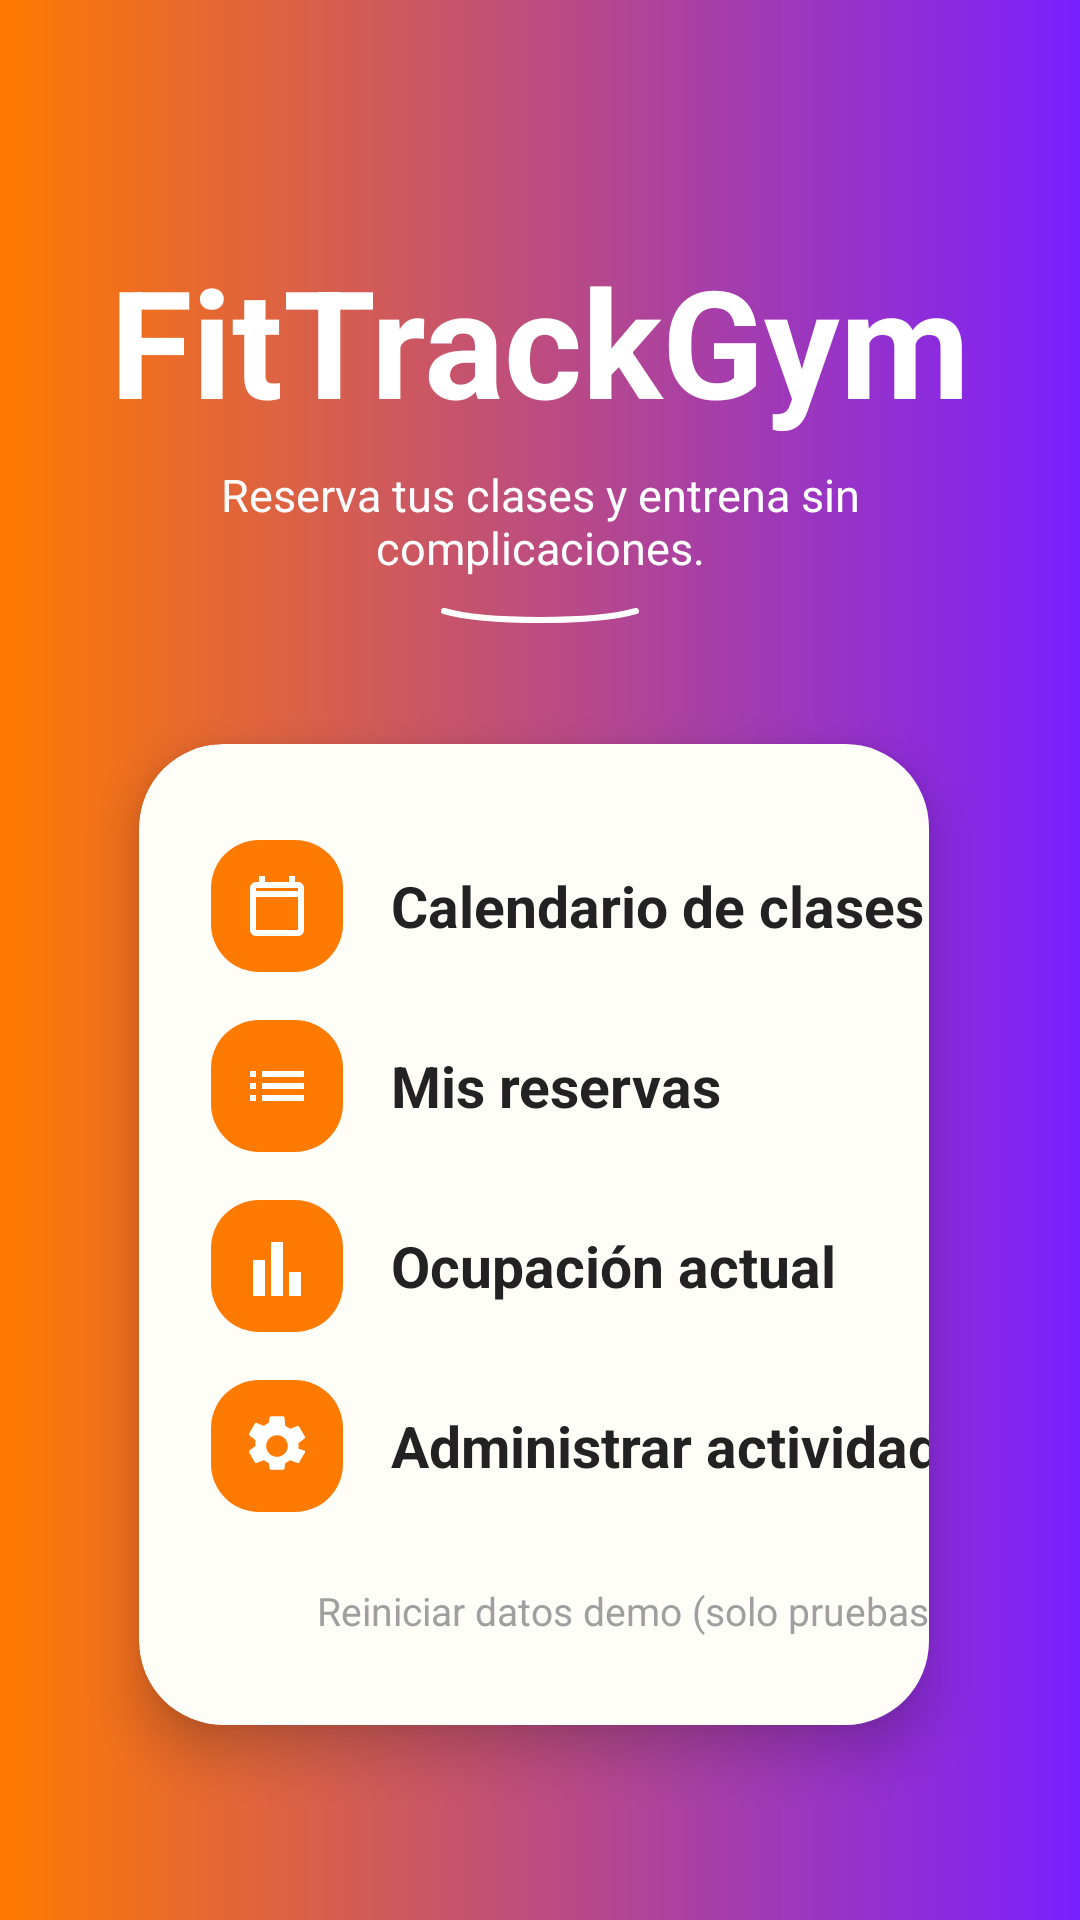

Locate icon controls on the screen. Image size 1080w x 1920h, boxes as (x1, y1, x2, y2).
list: (250, 1071, 304, 1101)
settings: (249, 1416, 305, 1470)
stats: (253, 1242, 301, 1296)
